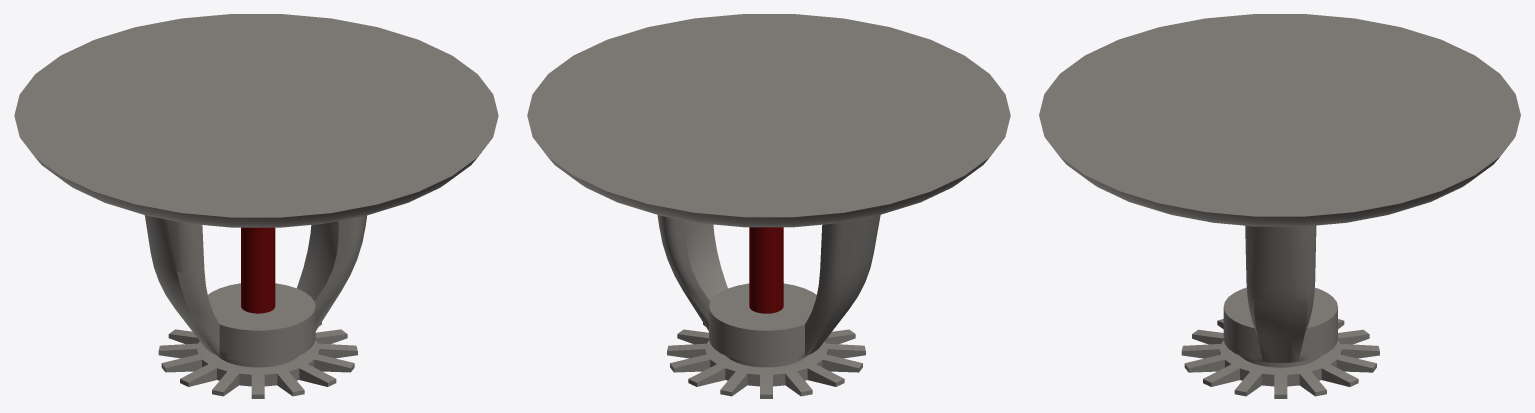
The model's file is aspersores.fbx.
3 renders of one model, left to right at view 1: azimuth 30°, elevation 25°; view 2: azimuth 150°, elevation 25°; view 3: azimuth 270°, elevation 25°, orthographic.
Visible parts, largest first — view 1: Mesh; view 2: Mesh; view 3: Mesh.
Boxes of the visible parts, x1=… form: Mesh: x1=14, y1=14, x2=498, y2=398; Mesh: x1=527, y1=14, x2=1010, y2=398; Mesh: x1=1039, y1=14, x2=1520, y2=398.
Size of the model in its own units: 11.9 by 6.89 by 11.96.
